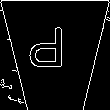P_S: (36, 30, 74, 80)
